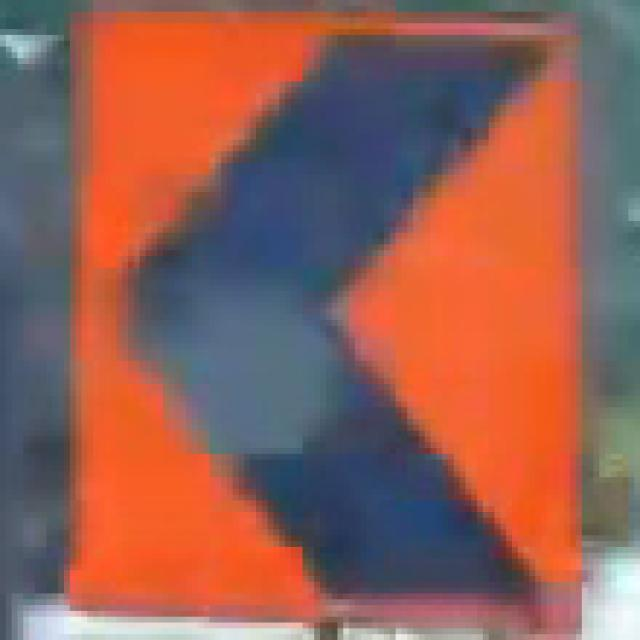curveleft_sign: (64, 6, 582, 622)
